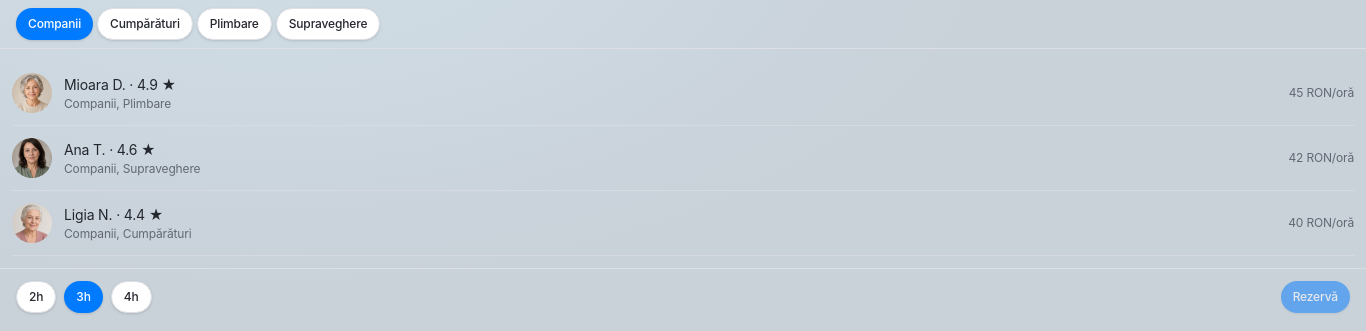
Test: Companii shows Mioara; Cumpărături shows Vasile; select plus 3h quotes 151 and confirm books
Expected: the button with test id "filter-companii" is shown, [16,8,93,40]
Expected: the list item with test id "caregiver-mioara" is shown, [12,61,1354,126]
Click the button with test id "filter-cumparaturi" at (145, 24), box [97,8,193,40]
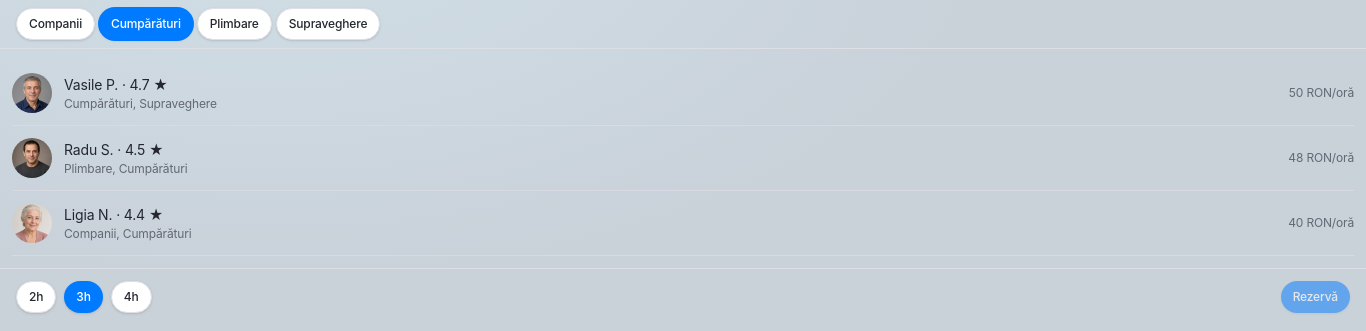
Expected: the list item with test id "caregiver-vasile" is shown, [12,61,1354,126]
Expected: the list item with test id "caregiver-radu" is shown, [12,126,1354,191]
Expected: the list item with test id "caregiver-mioara" is gone
Click the button with test id "filter-companii" at (56, 24), box [16,8,95,40]
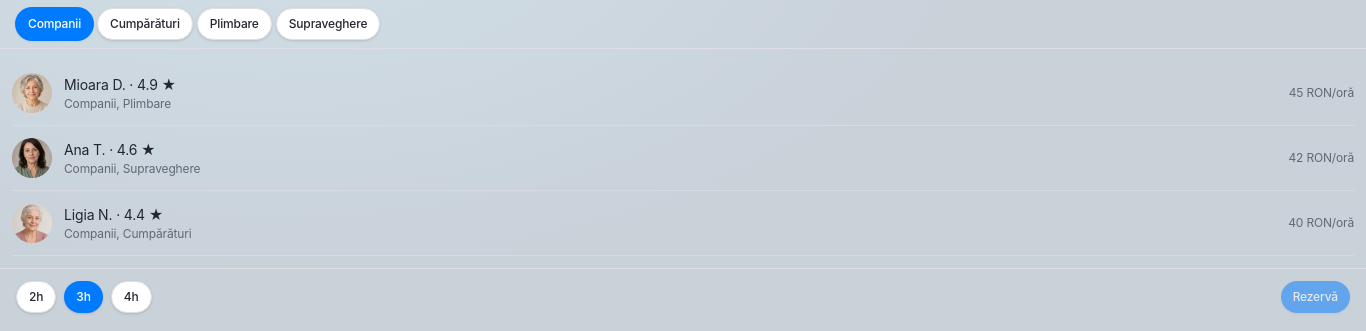
Click the button "Mioara D. · 4.9 ★ Companii, Plimbare" at (32, 93), box [12,73,1289,113]
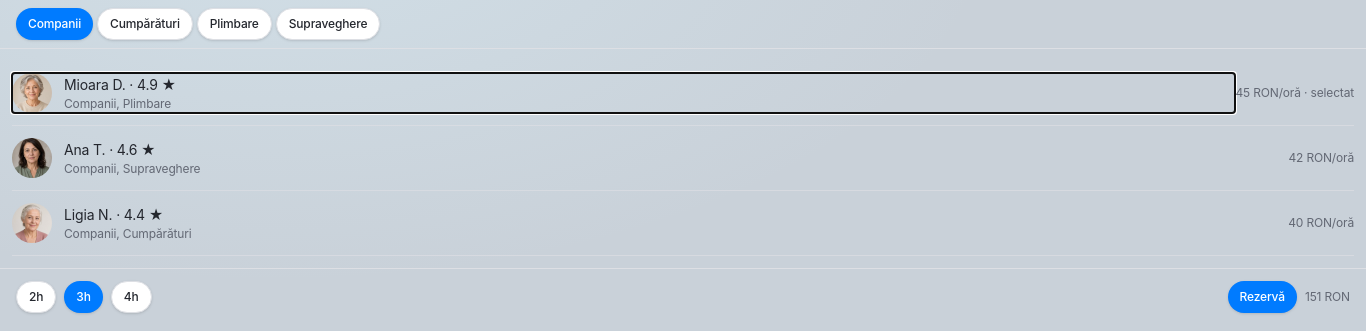
Click the button with test id "hours-3" at (84, 297), box [64,281,103,313]
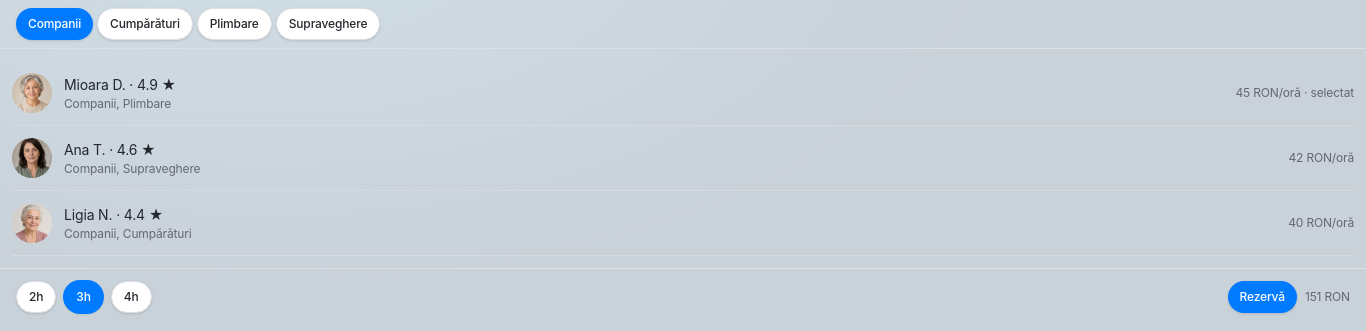
Expected: the text with test id "quote-preview" shows "151", [1305,289,1321,304]
Click the button with test id "confirm-booking" at (1262, 297), box [1228,281,1297,313]
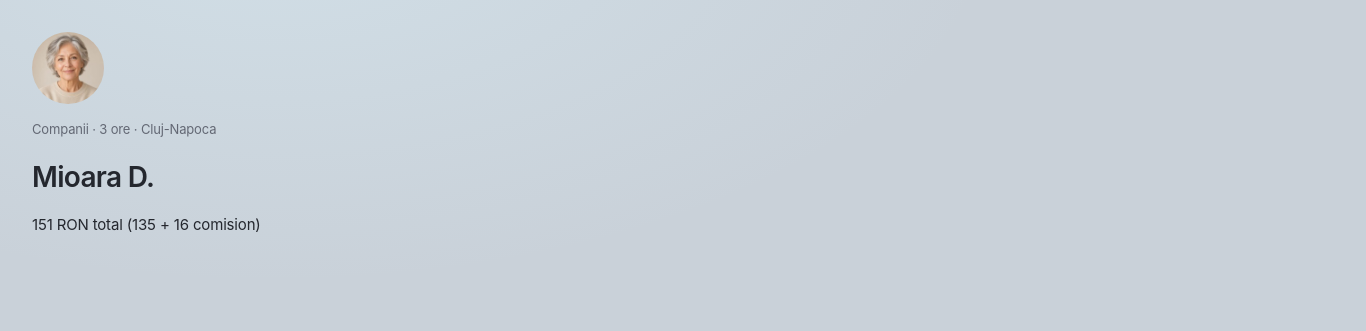
Expected: the element with test id "booking-summary" is shown, [32,32,261,234]
Expected: the text with test id "booking-total" shows "151 RON", [32,214,261,234]
